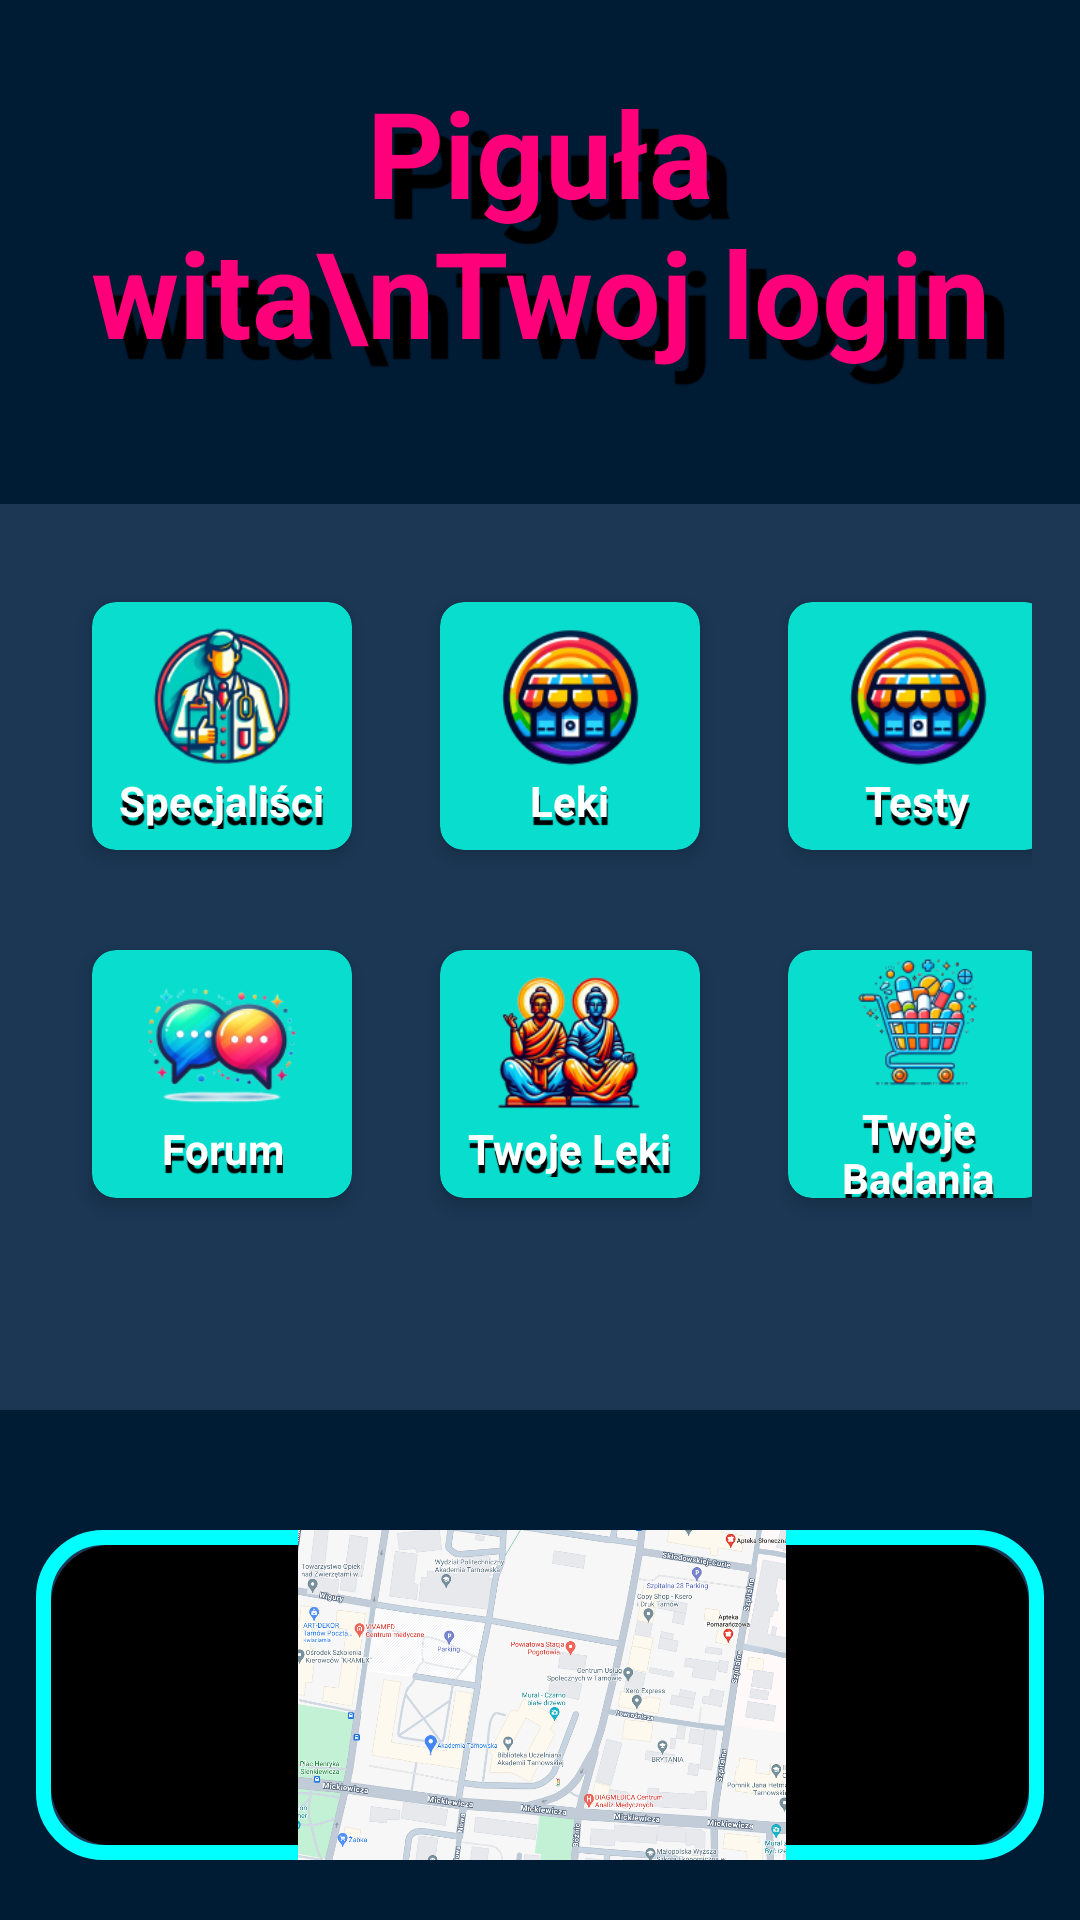

Where icons sit on this 1080*1920 app screen, as bbox=[x1, y1, x2, y2]:
dymki: bbox=[148, 989, 296, 1103]
koszyk: bbox=[858, 959, 977, 1085]
lekarz: bbox=[154, 629, 290, 764]
mnisi: bbox=[498, 977, 640, 1108]
sklep: bbox=[502, 630, 639, 765], bbox=[850, 630, 987, 765]
